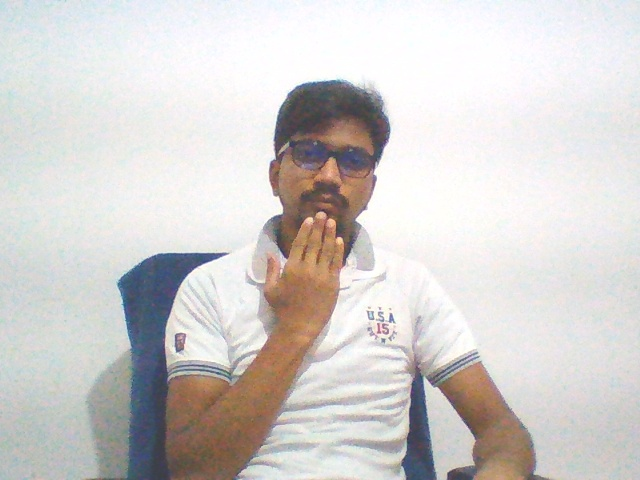mango: (256, 207, 352, 355)
